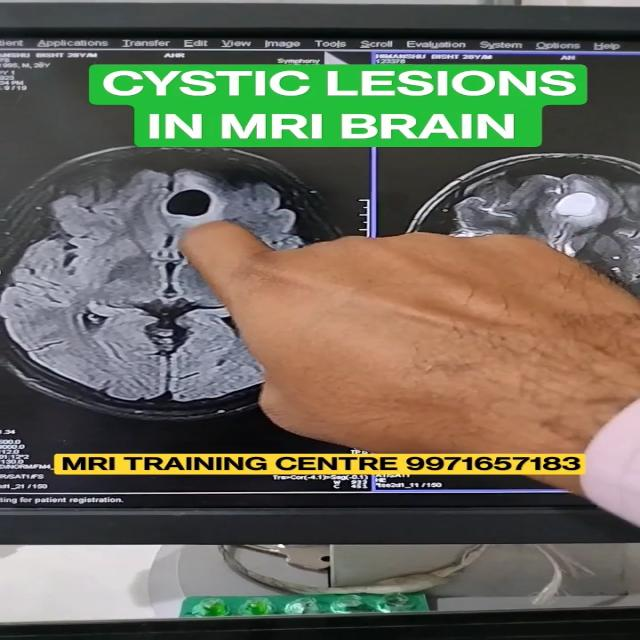tumor: (158, 186, 253, 237)
